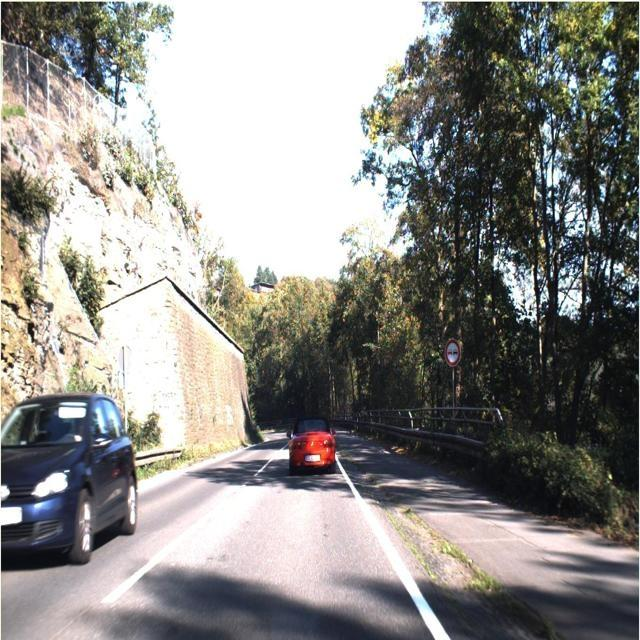forb_overtake: (444, 338, 461, 367)
